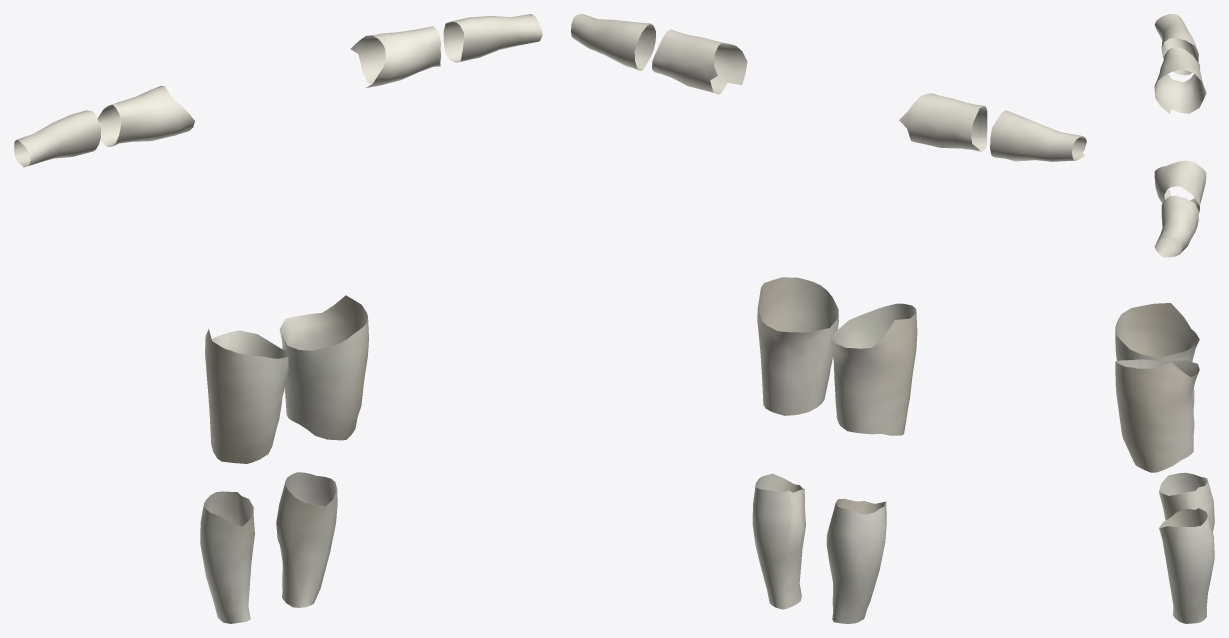
The model's file is bandage.FBX.
The picture shows the model from 3 angles, left to right: view 1: azimuth 30°, elevation 25°; view 2: azimuth 150°, elevation 25°; view 3: azimuth 270°, elevation 25°; orthographic projection. The views are drawn at different scales.
Parts seen in each view (by area): view 1: upperleg, upperleg001, lowerleg, lowerleg001, upperArm001, upperArm, lowerArm, lowerArm001; view 2: upperleg001, upperleg, lowerleg001, lowerleg, upperArm, upperArm001, lowerArm001, lowerArm; view 3: upperleg, lowerleg, upperleg001, upperArm001, lowerleg001, lowerArm, upperArm, lowerArm001.
Boxes of the visible parts, x1,y1,x2,y2 form: upperleg: (279, 295, 368, 440); upperleg001: (205, 329, 288, 463); lowerleg: (276, 472, 337, 607); lowerleg001: (200, 491, 254, 623); upperArm001: (97, 85, 194, 146); upperArm: (350, 26, 440, 87); lowerArm: (443, 14, 542, 62); lowerArm001: (14, 110, 101, 167); upperleg001: (830, 303, 917, 435); upperleg: (757, 277, 838, 415); lowerleg001: (826, 498, 886, 623); lowerleg: (752, 473, 805, 609); upperArm: (652, 29, 747, 94); upperArm001: (899, 93, 987, 151); lowerArm001: (990, 110, 1086, 161); lowerArm: (571, 14, 655, 70); upperleg: (1115, 359, 1199, 472); lowerleg: (1159, 508, 1214, 623); upperleg001: (1115, 303, 1199, 409); upperArm001: (1154, 47, 1206, 114); lowerleg001: (1159, 472, 1214, 532); lowerArm: (1154, 195, 1198, 257); upperArm: (1154, 160, 1206, 212); lowerArm001: (1154, 14, 1198, 75).
Bounding box in the file's own units: 120 × 122 × 22.56.
4 materials, 4 textured.
